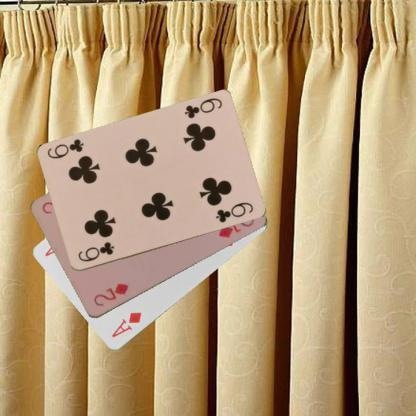2d: (90, 281, 130, 308)
6c: (75, 239, 116, 264), (182, 96, 223, 121)
Ad: (109, 310, 143, 339)
